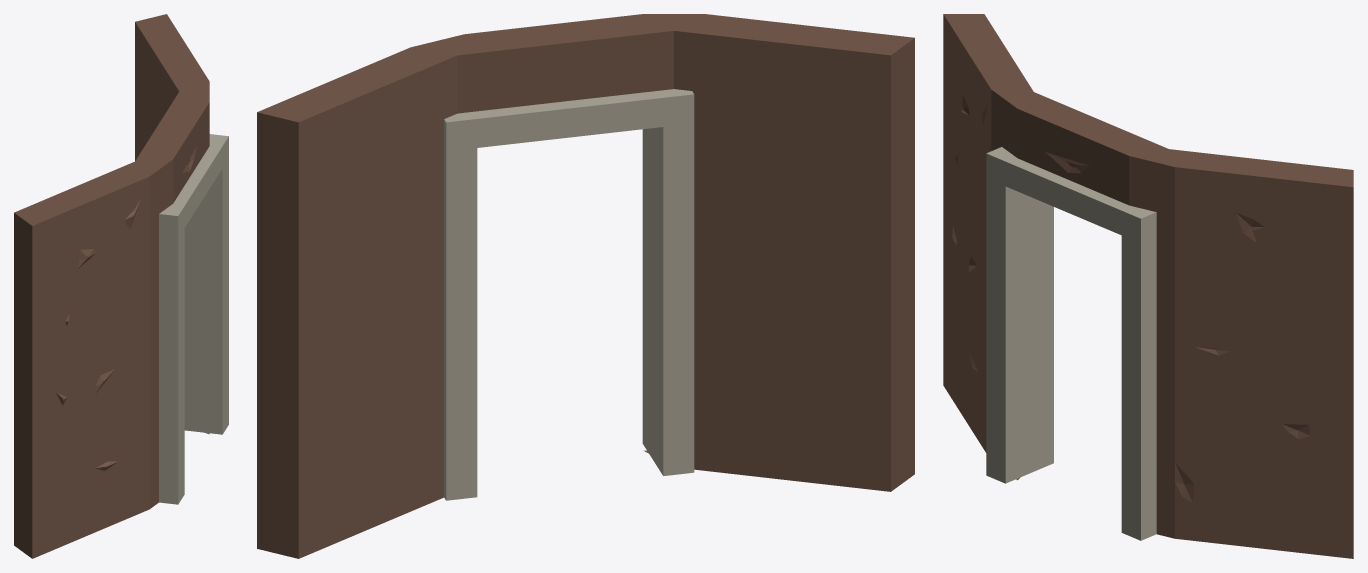
The model's file is victorian_wall_curved_1_door.fbx.
3 renders of one model, left to right at view 1: azimuth 30°, elevation 25°; view 2: azimuth 150°, elevation 25°; view 3: azimuth 270°, elevation 25°, orthographic. The views are drawn at different scales.
Parts seen in each view (by area): view 1: Cylinder.001; view 2: Cylinder.001; view 3: Cylinder.001.
Part boxes in pixels (x1=…): Cylinder.001: x1=14, y1=14, x2=228, y2=558; Cylinder.001: x1=257, y1=14, x2=914, y2=558; Cylinder.001: x1=943, y1=14, x2=1353, y2=558.
Size of the model in its own units: 300 by 300 by 300.
